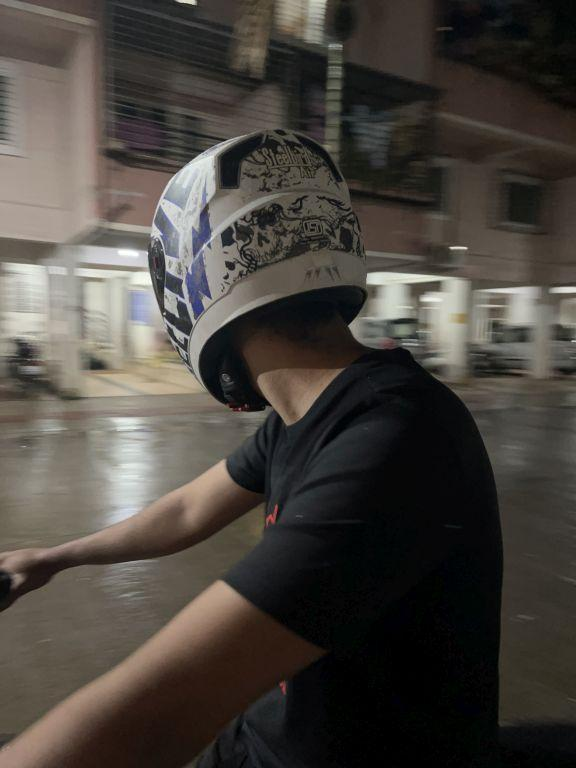helmet: (125, 105, 388, 423)
